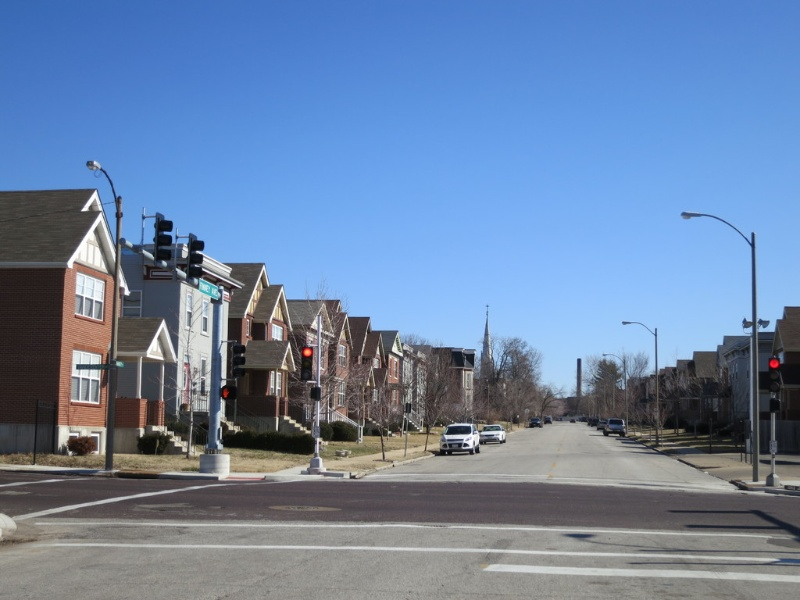red_light: (297, 344, 328, 384)
